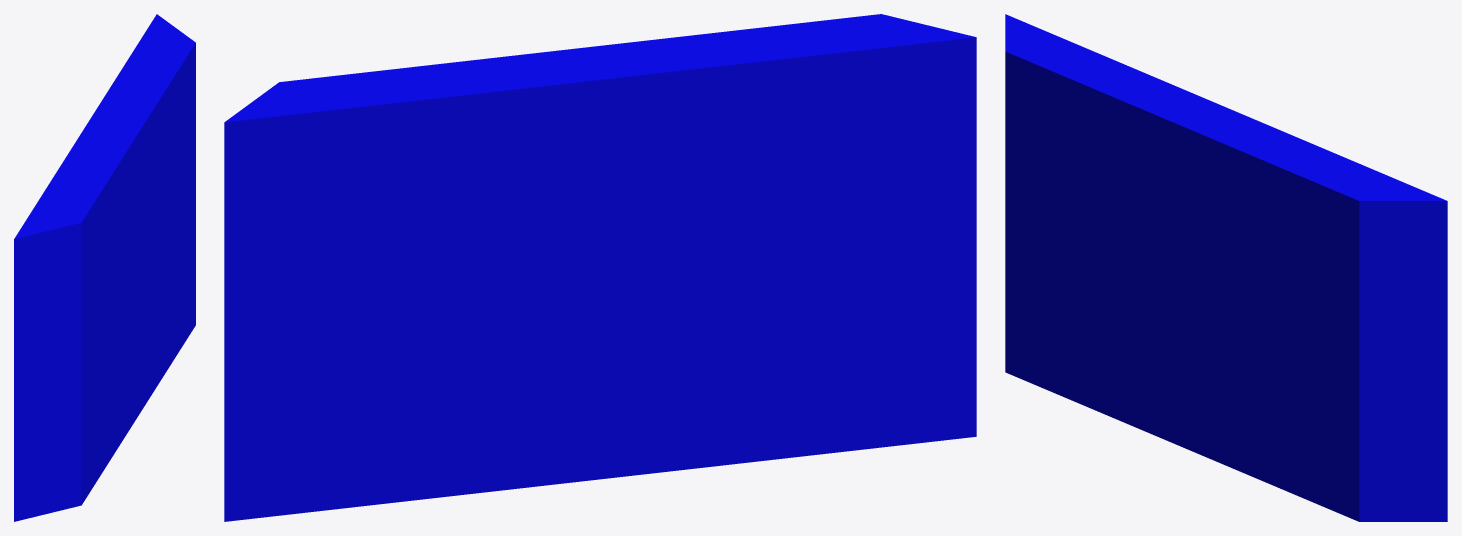
File: CORNER_WITHOUT_WALL.fbx
The picture shows the model from 3 angles, left to right: view 1: azimuth 30°, elevation 25°; view 2: azimuth 150°, elevation 25°; view 3: azimuth 270°, elevation 25°; orthographic projection. The views are drawn at different scales.
Visible parts, largest first — view 1: WALL_CORNER8x9; view 2: WALL_CORNER8x9; view 3: WALL_CORNER8x9.
Boxes of the visible parts, bbox=[...] form: WALL_CORNER8x9: bbox=[14, 14, 195, 521]; WALL_CORNER8x9: bbox=[224, 14, 976, 521]; WALL_CORNER8x9: bbox=[1005, 14, 1447, 521].
Bounding box in the file's own units: 500 × 400 × 500.
